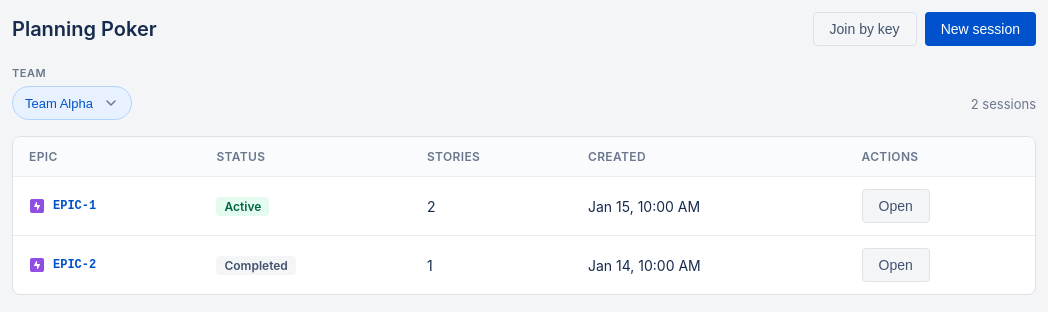
Scenario: PlanningPokerPage › Rendering › should render team selector with selected team, others on open
Expected: the text "Team Alpha" is shown, [25,96,95,110]
Expected: the text "Team Beta" is not shown
Click the button "Team Alpha" at (72, 103), box [12,86,132,120]
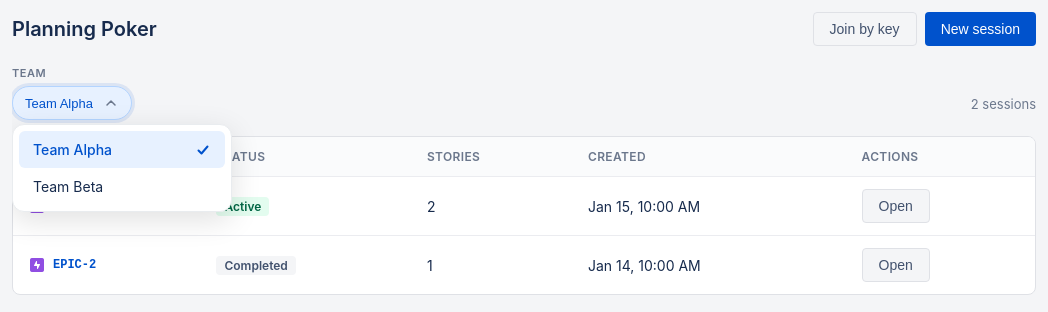
Expected: the text "Team Beta" is shown, [33,178,103,195]
